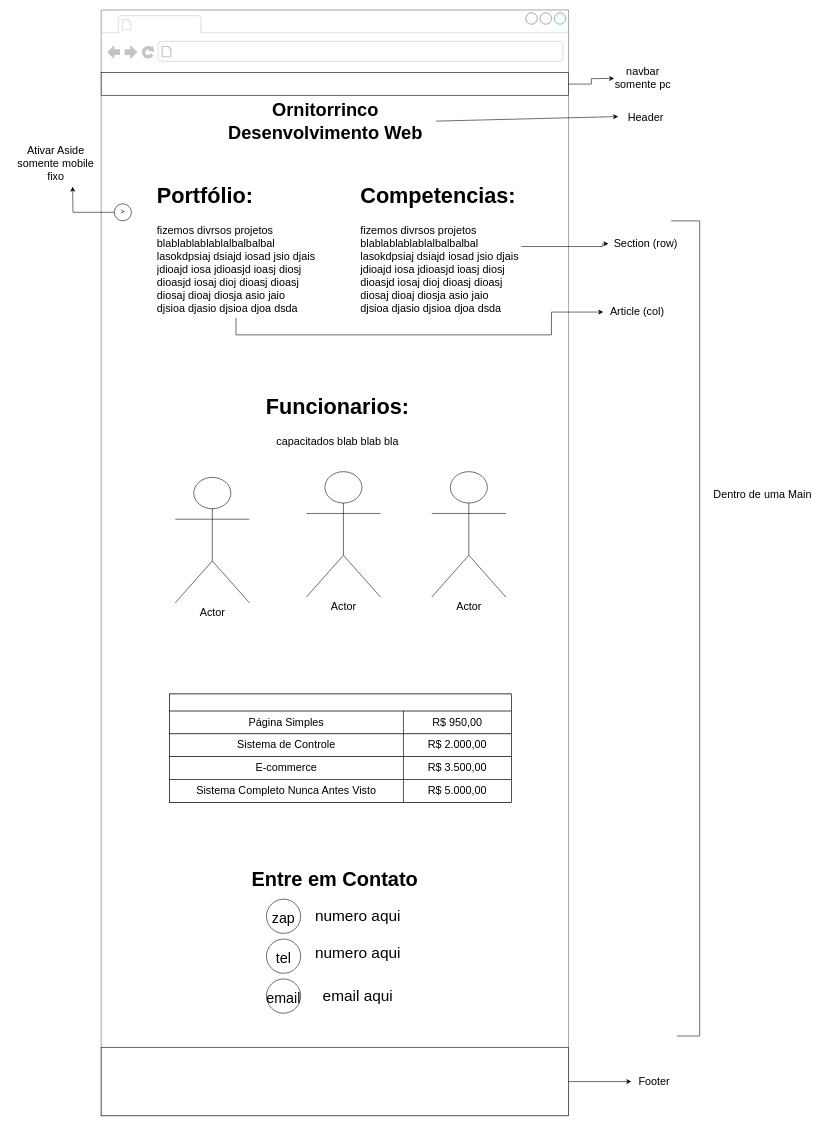
Image size: 829x1126. Some labels were removed from this diagram. The centre of each missing label's shape, as x and y in pixels:
https://www.draw.io: point 246,51
Item1 Item2 Item3 Item4 Item5: point 335,83
Page 1: point 166,24
Tabela de Preços: point 340,702
Todos os Direitos Reservados à Ornitorrinco ltda. 2022-Infinito: point 335,1081
